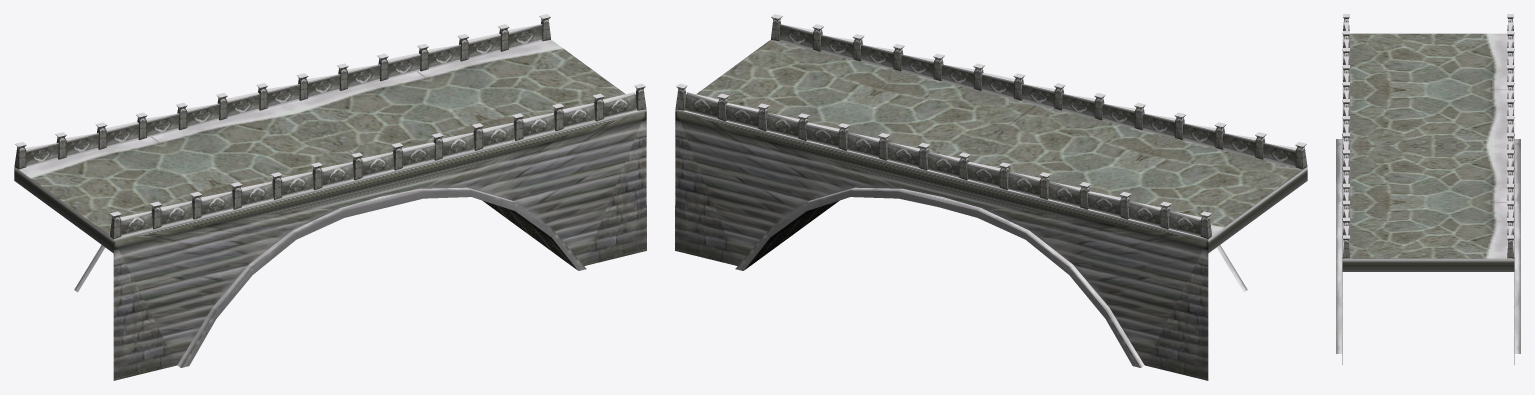
The model's file is nsm-022-10m-bridge_lod_01.glb.
3 views of the same model, side by side, from view 1: azimuth 30°, elevation 25°; view 2: azimuth 150°, elevation 25°; view 3: azimuth 270°, elevation 25° (orthographic). The views are drawn at different scales.
Parts seen in each view (by area): view 1: 022; view 2: 022; view 3: 022.
Part boxes in pixels (left/top/right/bottom): 022: left=14, top=14, right=646, bottom=380; 022: left=675, top=14, right=1307, bottom=380; 022: left=1336, top=14, right=1520, bottom=364.
Size of the model in its own units: 39.46 by 11.62 by 13.69.
Materials: 1 (1 with a texture image).
